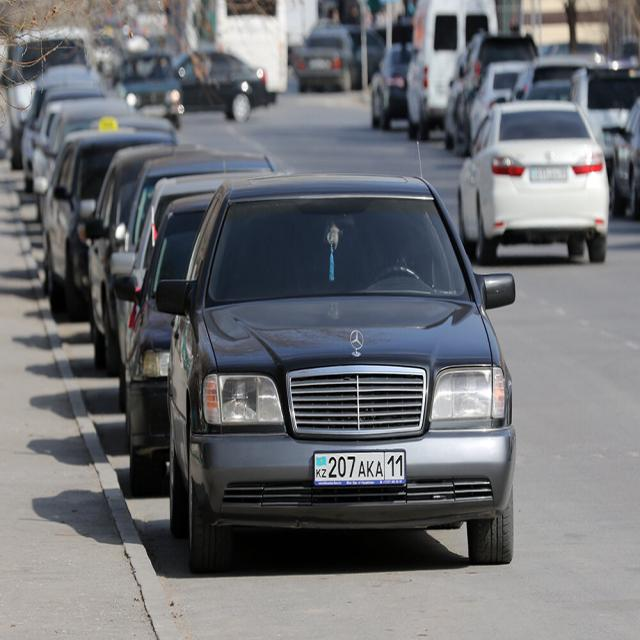car: (158, 172, 517, 573), (41, 128, 177, 318), (457, 99, 609, 265), (171, 49, 276, 122), (114, 50, 184, 128), (602, 95, 640, 220), (370, 42, 412, 130)
license: (313, 448, 407, 487)
